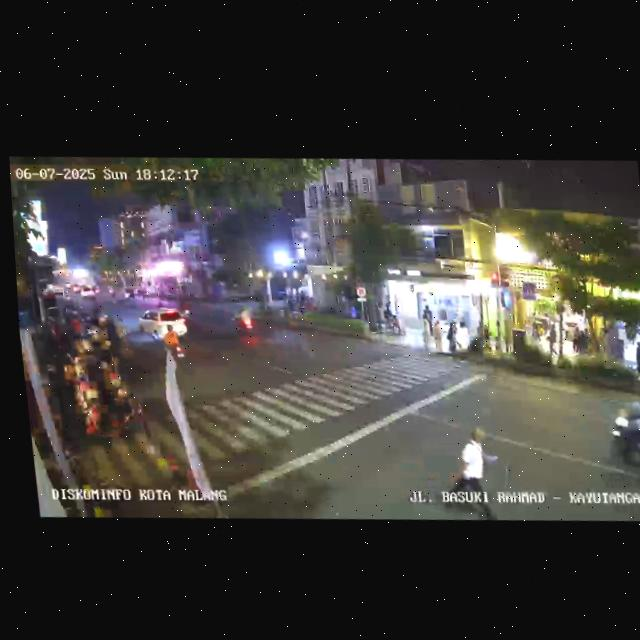car: (603, 392, 640, 481), (136, 304, 191, 343)
motorcycle: (232, 305, 260, 348), (162, 323, 187, 364)
person: (447, 423, 499, 521), (102, 322, 123, 376), (430, 318, 445, 354), (444, 320, 459, 355), (569, 324, 582, 357), (545, 323, 558, 356), (423, 305, 436, 336), (420, 313, 431, 342), (633, 341, 640, 373)
